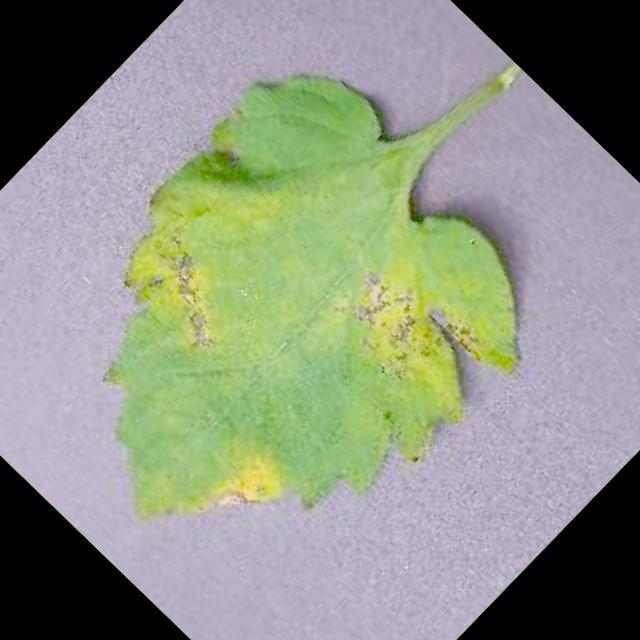Tomato Septoria spot leaf: (0, 19, 589, 640)
